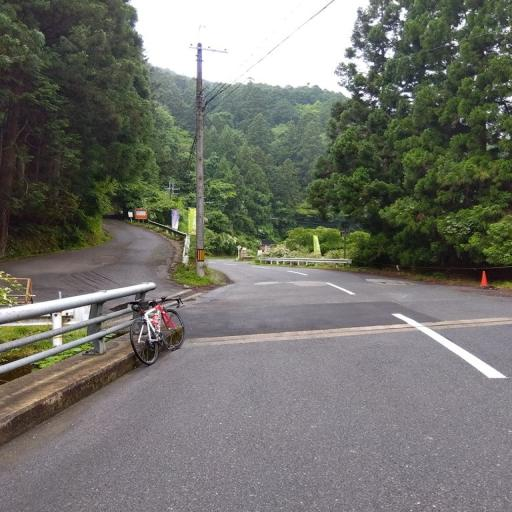bag: (130, 296, 185, 364)
phone: (196, 44, 204, 276)
ramp: (0, 260, 511, 511), (0, 220, 180, 302)
